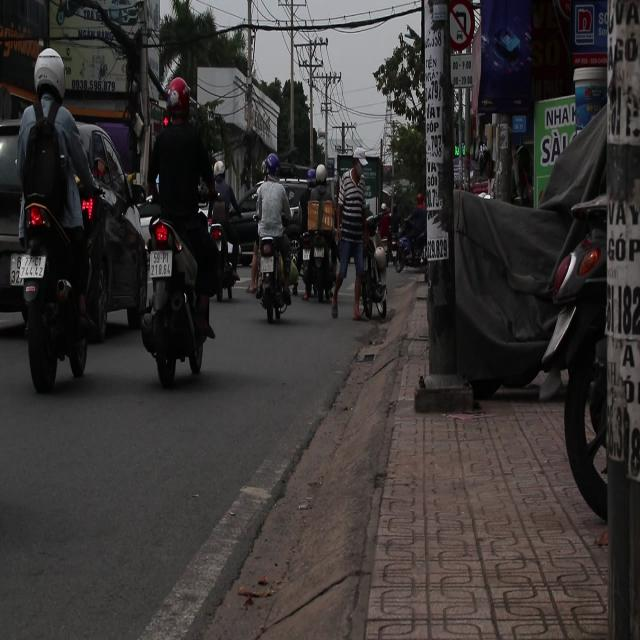car: (0, 111, 158, 343)
motorbike: (9, 187, 105, 408), (136, 210, 210, 385), (344, 221, 396, 346), (244, 224, 296, 332), (383, 187, 434, 288), (208, 220, 242, 301), (305, 232, 333, 314)
